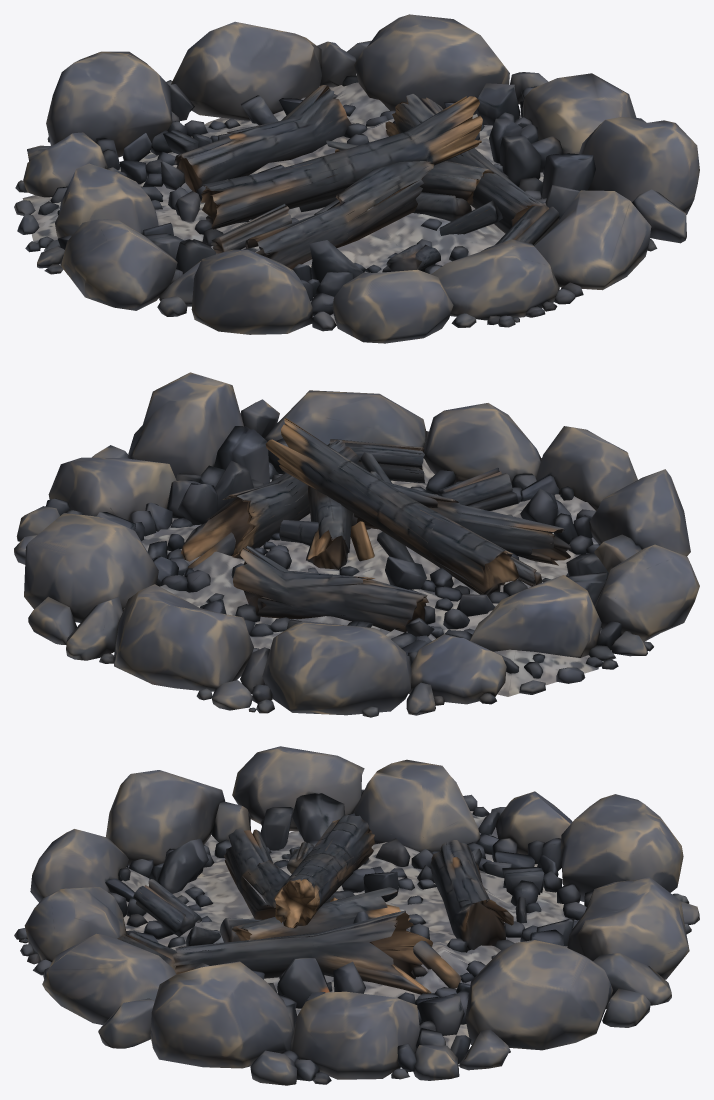
The model's file is Stonebound_Embers_Upward_Y.fbx.
The picture shows the model from 3 angles, top to bottom: view 1: azimuth 30°, elevation 25°; view 2: azimuth 150°, elevation 25°; view 3: azimuth 270°, elevation 25°; orthographic projection. The views are drawn at different scales.
Parts seen in each view (by area): view 1: geometry_0; view 2: geometry_0; view 3: geometry_0.
Part boxes in pixels (<box>): geometry_0: <box>14,14,699,343</box>; geometry_0: <box>14,372,699,717</box>; geometry_0: <box>14,746,699,1085</box>.
Size of the model in its own units: 95.51 by 16.55 by 93.8.
Materials: 1 (1 with a texture image).
